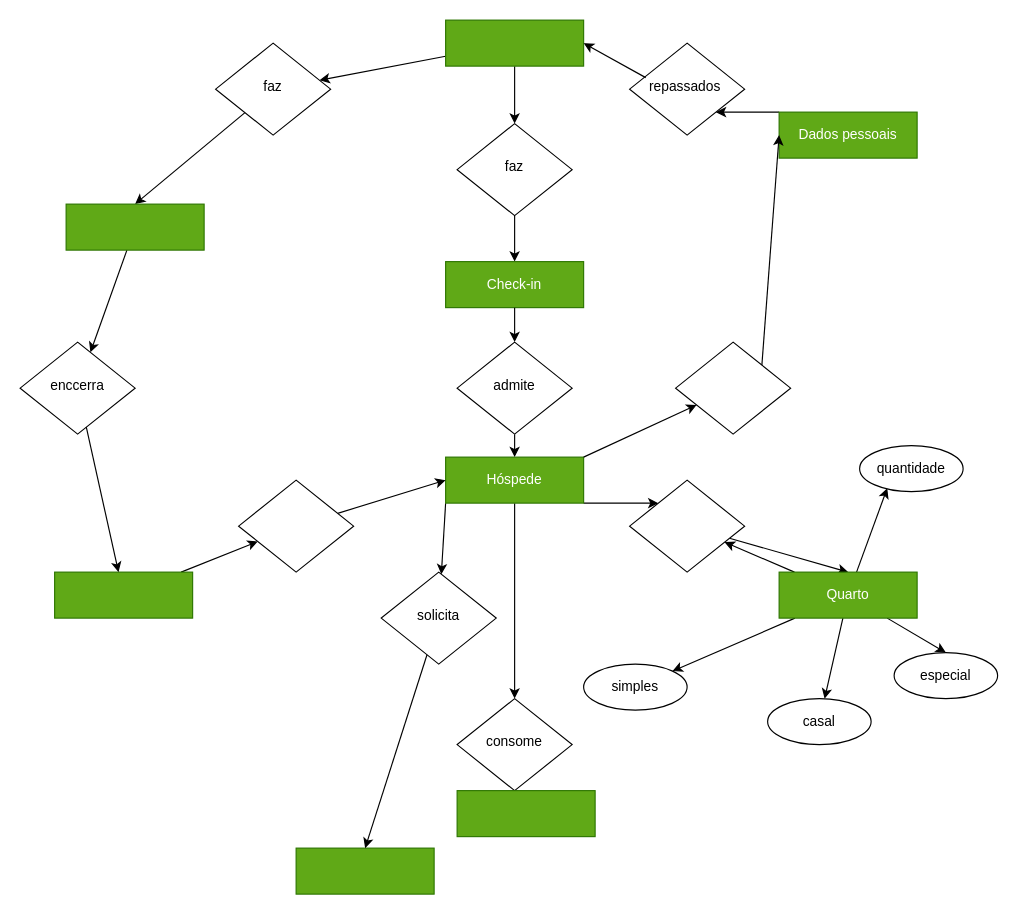
The diagram is 1018 pixels wide and 914 high, and some of its shapes have lost their labels. Here are the shapes that lost their labels. From the top down, the centre of each, then its label:
At (514,42): "Hotel".
At (134,226): "Check-out".
At (732,387): "informa".
At (295,525): "libera-se".
At (686,525): "escolhe".
At (123,594): "conta".
At (525,813): "Produtos do frigobar".
At (364,870): "Serviços".
